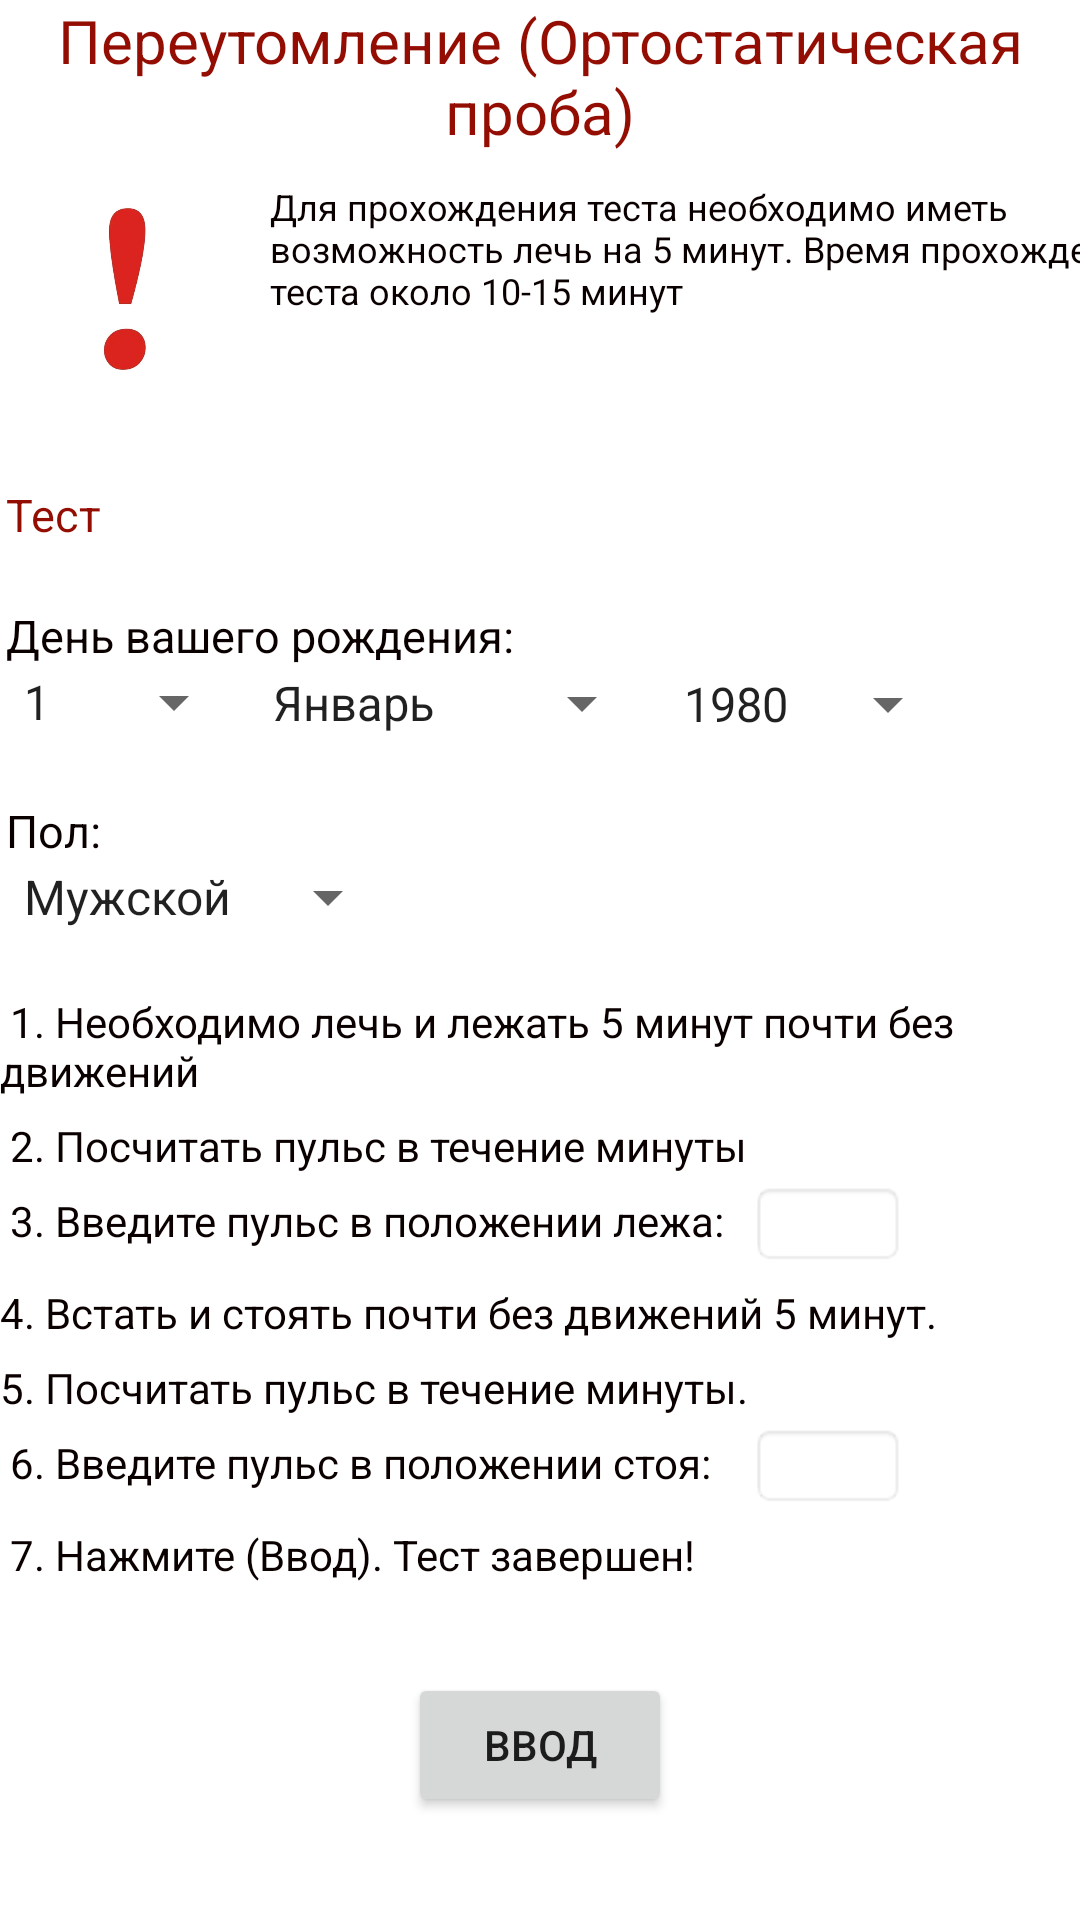

Named icons in this screenshot (1080px×1920px) and their centers, point (x, y):
ex mark: point (125, 289)
